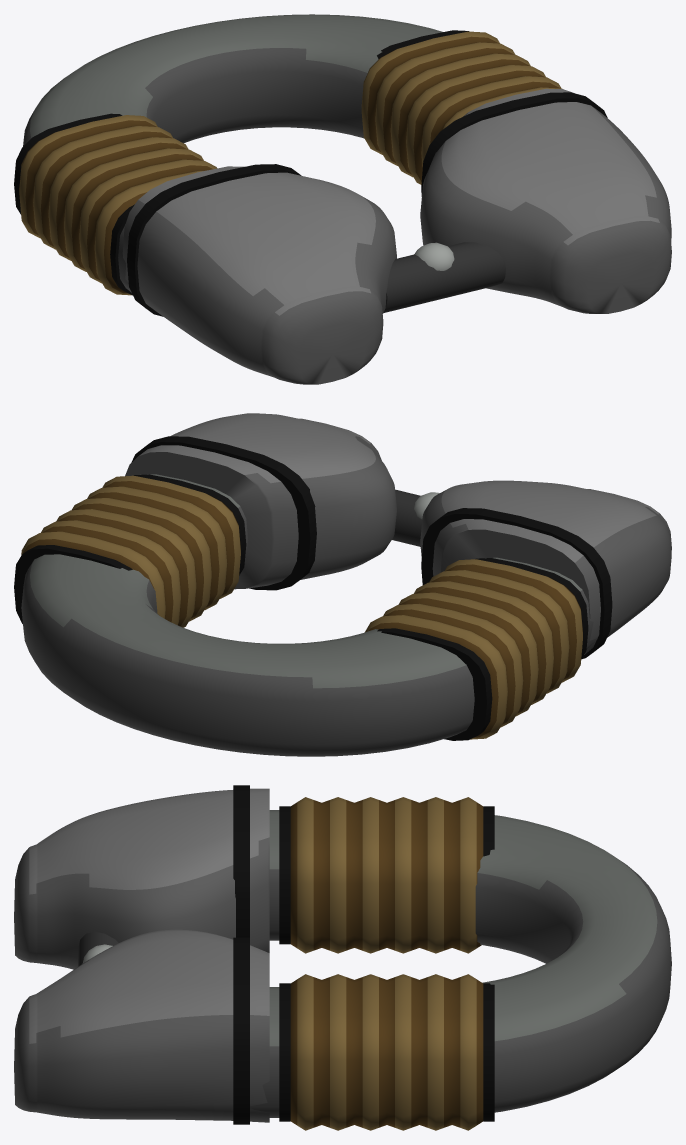
Rendered from horseshoe.glb.
3 views of the same model, one above another, from view 1: azimuth 30°, elevation 25°; view 2: azimuth 150°, elevation 25°; view 3: azimuth 270°, elevation 25° (orthographic). The views are drawn at different scales.
Parts seen in each view (by area): view 1: pole, pole_right, core, coil-1, coil1, keeper, pole_band, pole_band_right, seam-1_7.3, stud, seam-1_0.0; view 2: core, pole_right, pole, coil-1, coil1, pole_band_right, pole_band, seam-1_7.3, seam1_7.3, keeper, seam1_0.0, seam-1_0.0; view 3: core, pole_right, pole, coil1, coil-1, pole_band_right, pole_band, seam1_0.0, seam-1_0.0, seam1_7.3, keeper, seam-1_7.3.
Part boxes in pixels (x1=…): pole: x1=122, y1=166, x2=396, y2=384; pole_right: x1=420, y1=88, x2=671, y2=313; core: x1=23, y1=14, x2=442, y2=290; coil-1: x1=19, y1=115, x2=217, y2=295; coil1: x1=361, y1=31, x2=562, y2=184; keeper: x1=383, y1=242, x2=505, y2=312; pole_band: x1=127, y1=164, x2=301, y2=316; pole_band_right: x1=421, y1=92, x2=607, y2=196; seam-1_7.3: x1=14, y1=113, x2=122, y2=214; stud: x1=414, y1=242, x2=454, y2=270; seam-1_0.0: x1=110, y1=204, x2=134, y2=295; core: x1=21, y1=474, x2=597, y2=756; pole_right: x1=125, y1=413, x2=396, y2=589; pole: x1=420, y1=480, x2=671, y2=654; coil-1: x1=364, y1=559, x2=582, y2=739; coil1: x1=21, y1=475, x2=240, y2=627; pole_band_right: x1=131, y1=436, x2=316, y2=590; pole_band: x1=421, y1=508, x2=612, y2=659; seam-1_7.3: x1=377, y1=628, x2=492, y2=740; seam1_7.3: x1=14, y1=545, x2=132, y2=623; keeper: x1=392, y1=489, x2=422, y2=546; seam1_0.0: x1=133, y1=474, x2=246, y2=575; seam-1_0.0: x1=475, y1=558, x2=588, y2=658; core: x1=250, y1=810, x2=671, y2=1117; pole_right: x1=14, y1=929, x2=269, y2=1122; pole: x1=14, y1=788, x2=269, y2=969; coil1: x1=290, y1=974, x2=483, y2=1130; coil-1: x1=290, y1=797, x2=483, y2=953; pole_band_right: x1=233, y1=937, x2=249, y2=1124; pole_band: x1=233, y1=785, x2=249, y2=937; seam1_0.0: x1=279, y1=983, x2=290, y2=1121; seam-1_0.0: x1=279, y1=806, x2=290, y2=944; seam1_7.3: x1=483, y1=983, x2=494, y2=1121; keeper: x1=78, y1=931, x2=118, y2=966; seam-1_7.3: x1=483, y1=806, x2=494, y2=856.
Size of the model in its own units: 21.34 by 5.54 by 23.55.
